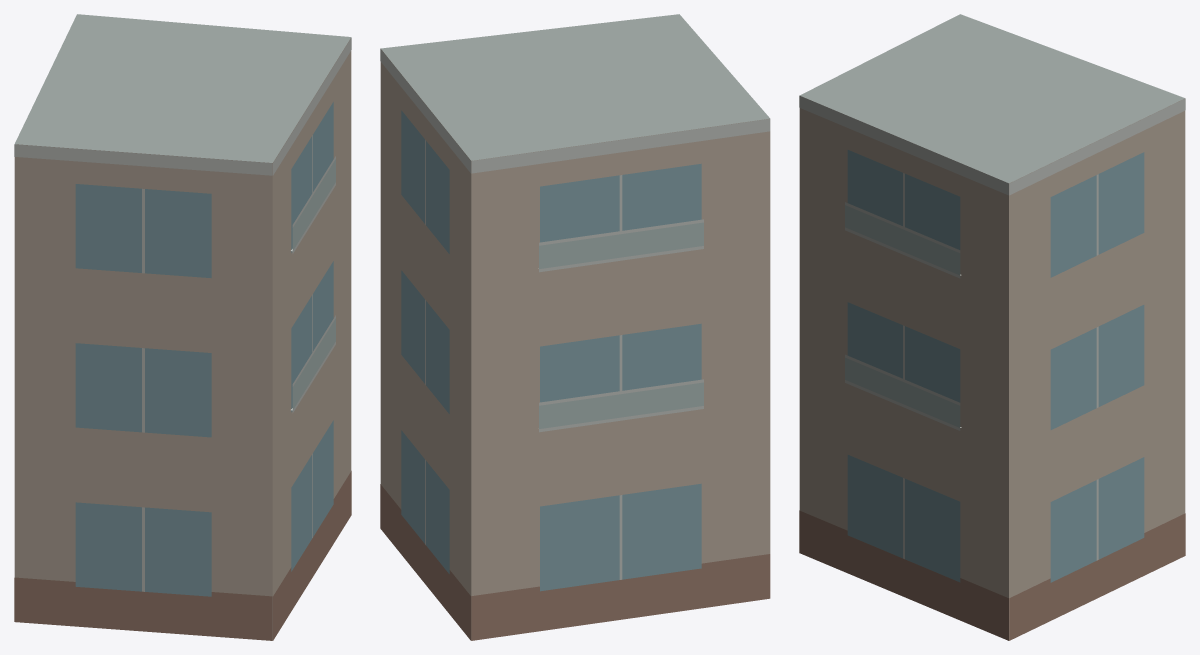
File: survey-upis-32485316.glb
The picture shows the model from 3 angles, left to right: view 1: azimuth 30°, elevation 25°; view 2: azimuth 150°, elevation 25°; view 3: azimuth 270°, elevation 25°; orthographic projection. The views are drawn at different scales.
Parts seen in each view (by area): view 1: survey-upis-32485316.tmp; view 2: survey-upis-32485316.tmp; view 3: survey-upis-32485316.tmp.
Part boxes in pixels (x1,y1,x2,y2): survey-upis-32485316.tmp: (14,14,351,640); survey-upis-32485316.tmp: (380,14,770,640); survey-upis-32485316.tmp: (799,14,1185,640).
Bounding box in the file's own units: 7.27 × 9.15 × 7.
